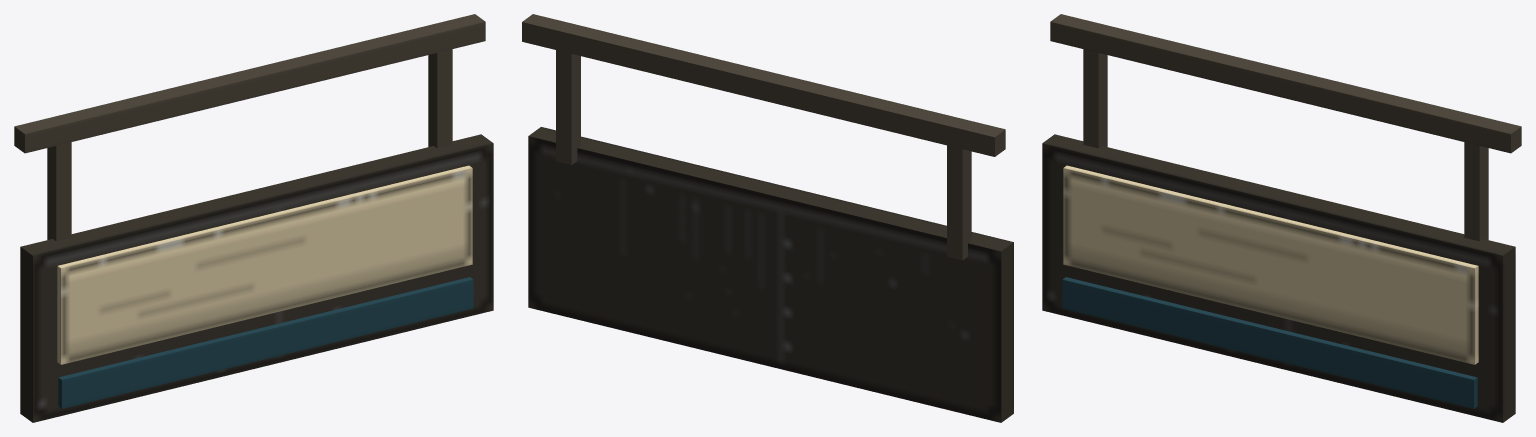
Rendered from DepartmentSign.obj.
3 renders of one model, left to right at view 1: azimuth 30°, elevation 25°; view 2: azimuth 150°, elevation 25°; view 3: azimuth 330°, elevation 25°, orthographic. The views are drawn at different scales.
Visible parts, largest first — view 1: DepartmentSign; view 2: DepartmentSign; view 3: DepartmentSign.
Boxes of the visible parts, x1,y1,x2,y2 form: DepartmentSign: [14, 14, 493, 422]; DepartmentSign: [522, 14, 1013, 422]; DepartmentSign: [1042, 14, 1521, 422].
Size of the model in its own units: 1.5 by 0.88 by 0.13.
Materials: 1 (1 with a texture image).
